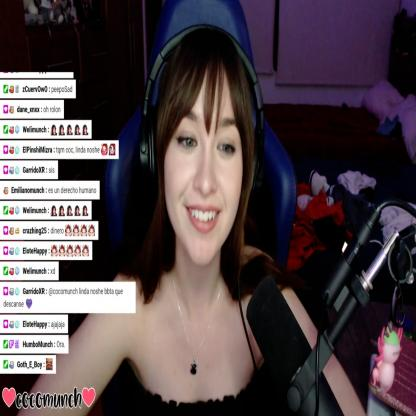streamer: (18, 25, 367, 416)
